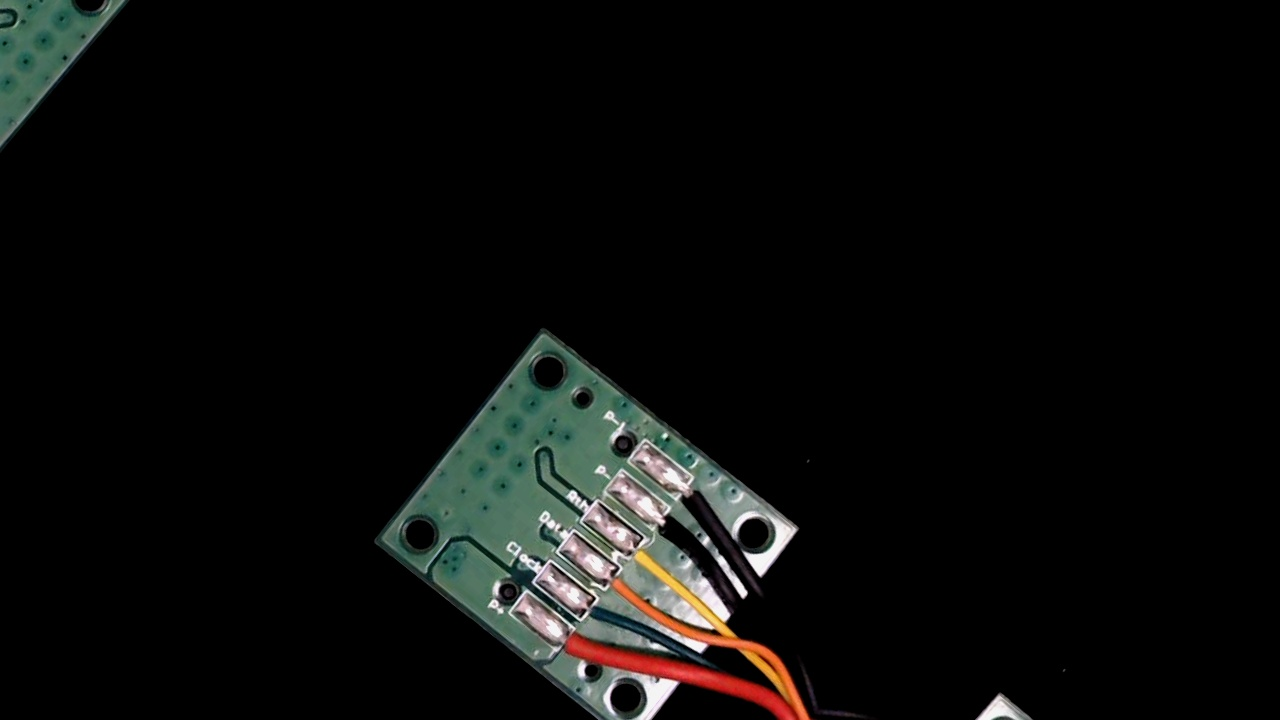Black: (638, 495, 705, 558)
Black1: (661, 462, 733, 530)
Green: (569, 589, 630, 646)
Orange: (590, 557, 657, 620)
Red: (542, 615, 617, 686)
Yellow: (613, 525, 692, 598)
